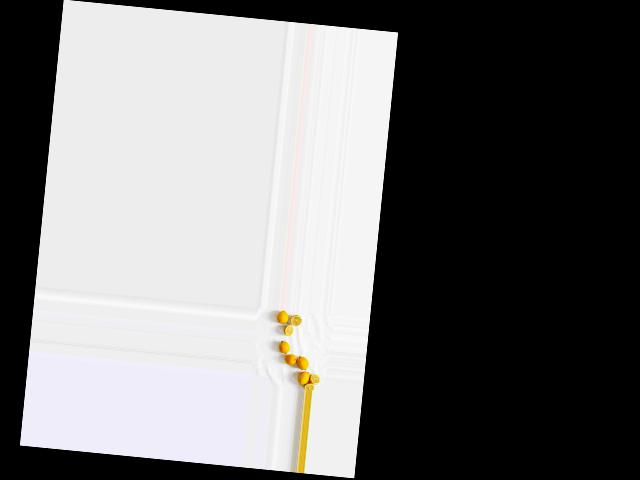lemon: (294, 366, 310, 387)
